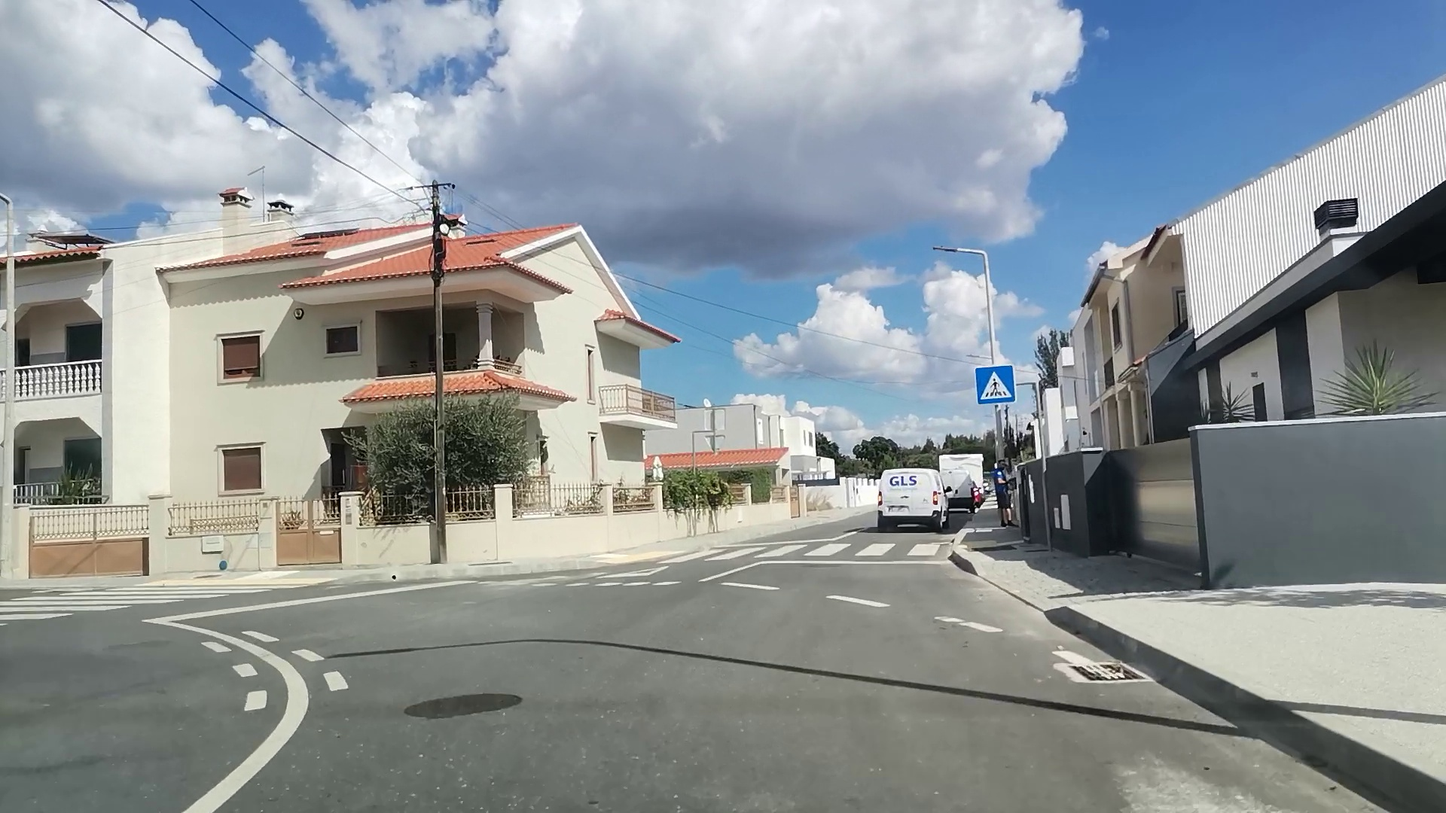Stairs: (0, 582, 287, 629), (661, 544, 944, 562)
